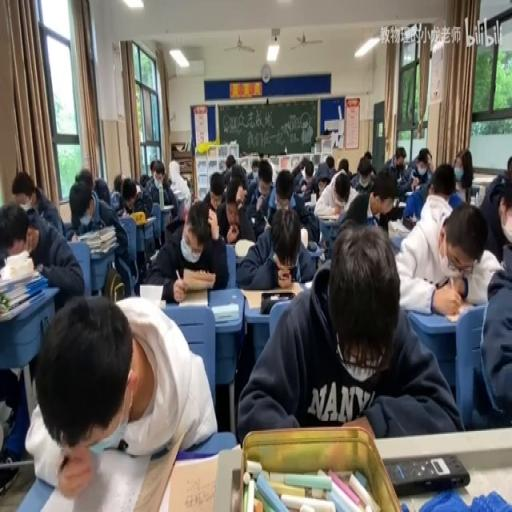calculator: (28, 418, 182, 509), (162, 451, 222, 512), (239, 284, 300, 310), (438, 292, 477, 322), (182, 266, 214, 289), (210, 301, 238, 323), (179, 287, 209, 307), (139, 283, 166, 304), (234, 236, 256, 258), (90, 244, 116, 258), (76, 228, 100, 240), (98, 225, 116, 240), (318, 212, 340, 222), (469, 183, 478, 205), (396, 199, 407, 215), (300, 228, 307, 248), (304, 199, 317, 208), (149, 248, 158, 260), (116, 208, 126, 218), (302, 280, 312, 289), (404, 190, 414, 198), (160, 204, 173, 210)
paper: (236, 225, 454, 442), (2, 193, 82, 448), (144, 195, 226, 299), (69, 176, 130, 299), (476, 240, 511, 424), (323, 188, 373, 266), (477, 160, 512, 263), (400, 155, 443, 225), (286, 164, 322, 244), (242, 161, 274, 233), (31, 184, 63, 234), (118, 176, 150, 225), (379, 145, 409, 195), (166, 159, 192, 216), (448, 148, 474, 203), (201, 168, 227, 216), (11, 169, 37, 209), (349, 155, 375, 193), (274, 166, 294, 212), (93, 176, 111, 205), (230, 164, 248, 192), (314, 162, 332, 189), (74, 168, 94, 192), (334, 175, 350, 202), (378, 202, 396, 225), (290, 159, 306, 181), (499, 156, 511, 184), (149, 161, 165, 182), (108, 189, 122, 212), (266, 185, 276, 215), (418, 148, 432, 169), (113, 172, 123, 194), (225, 154, 235, 170), (304, 164, 314, 180), (138, 174, 149, 188), (338, 158, 348, 173), (325, 155, 334, 169), (413, 160, 422, 174), (251, 161, 259, 175), (246, 168, 252, 182), (364, 150, 371, 160), (428, 182, 434, 193)
person: (385, 452, 470, 494), (402, 215, 416, 230), (286, 263, 298, 280), (308, 240, 318, 250)
